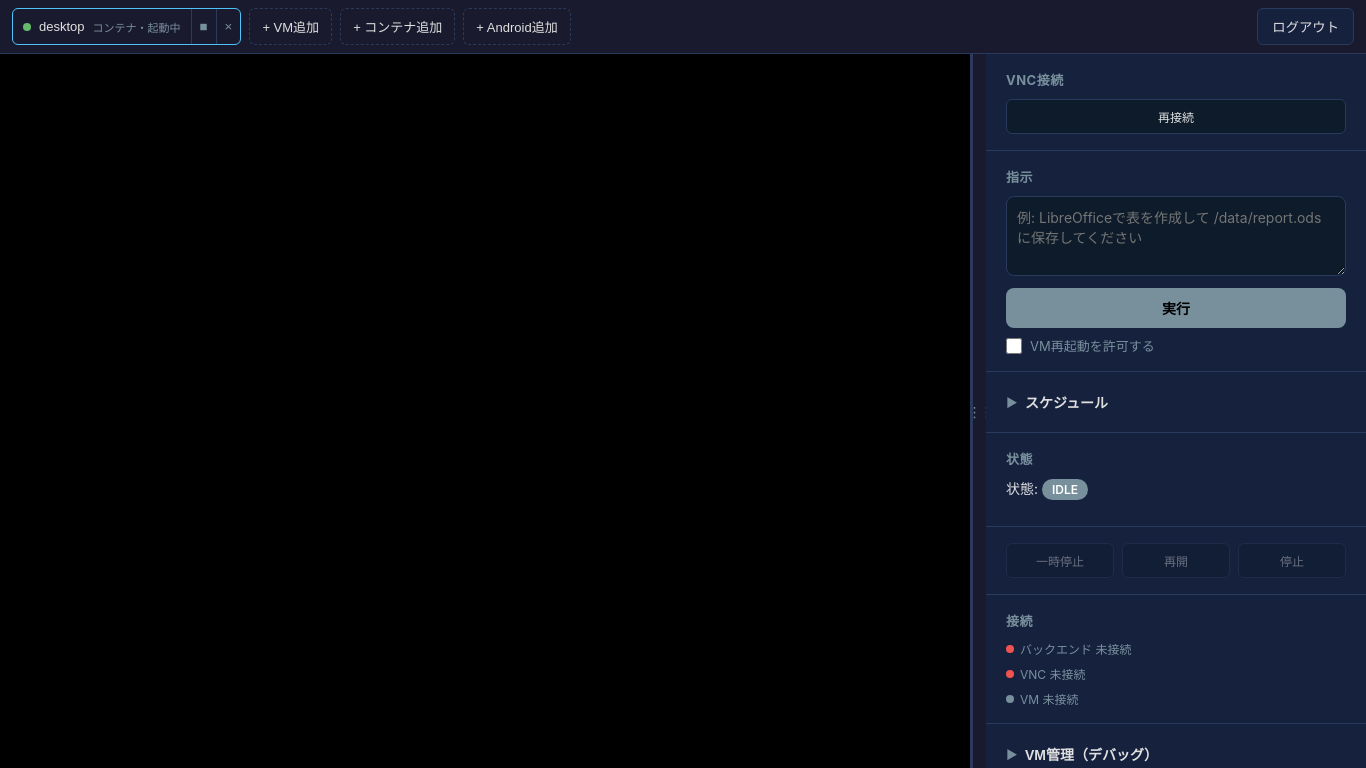
a delayed response from a retired backend cannot replace new live state or clear the draft
The image size is (1366, 768).
Type "報告書を保存する" into the text box named "指示".
click(1176, 236); type("報告書を保存する")  # box [1006,196,1346,276]
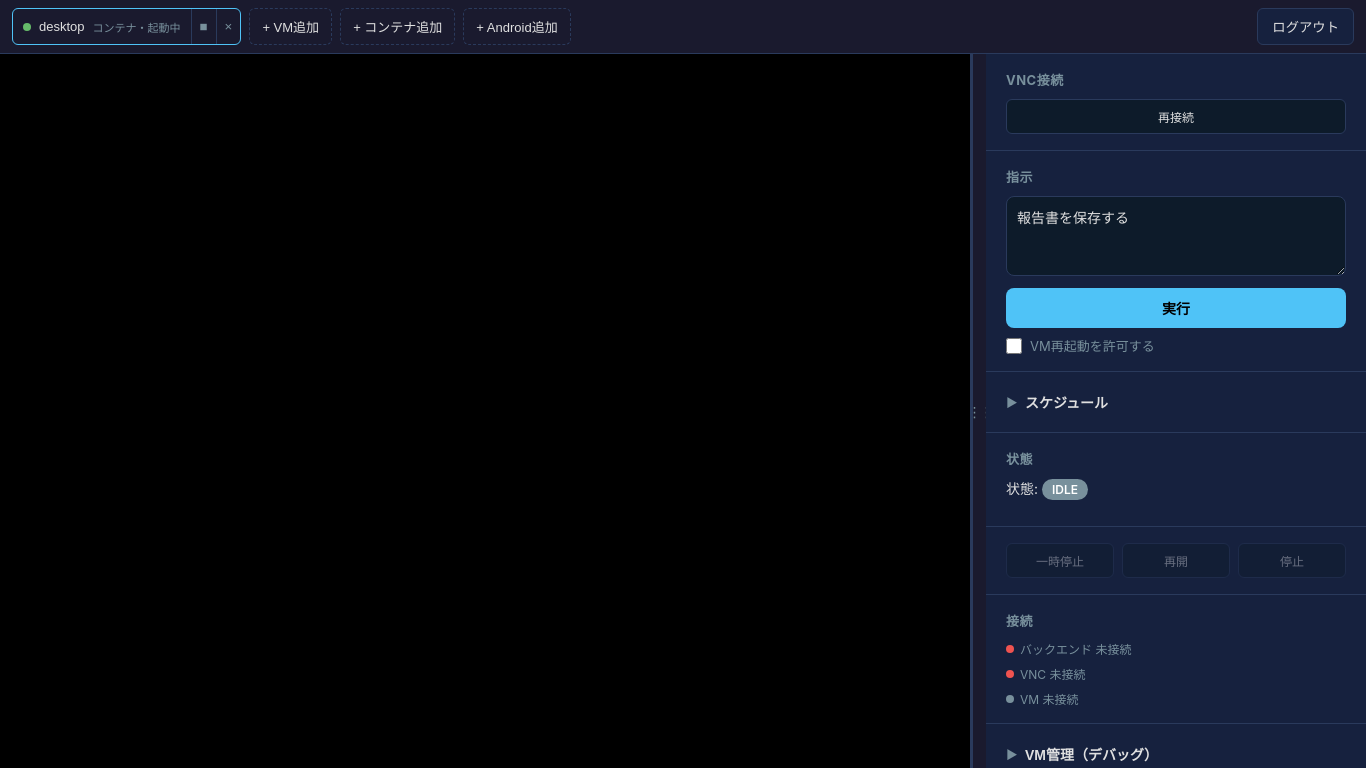
Click the button "実行".
click(1176, 308)  # box [1006,288,1346,328]
(page scrolled)
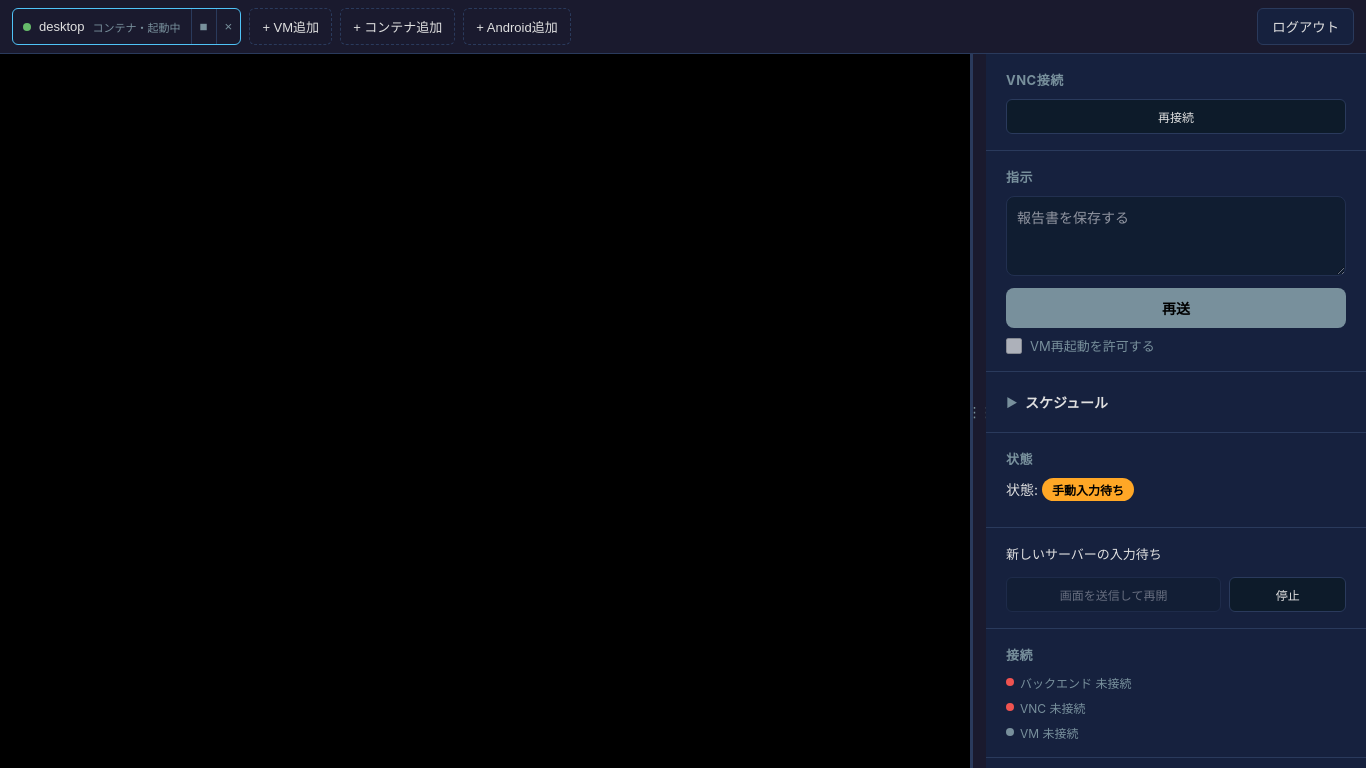
expect the text "新しいサーバーの入力待ち" is shown: met, box [1006,546,1162,562]
